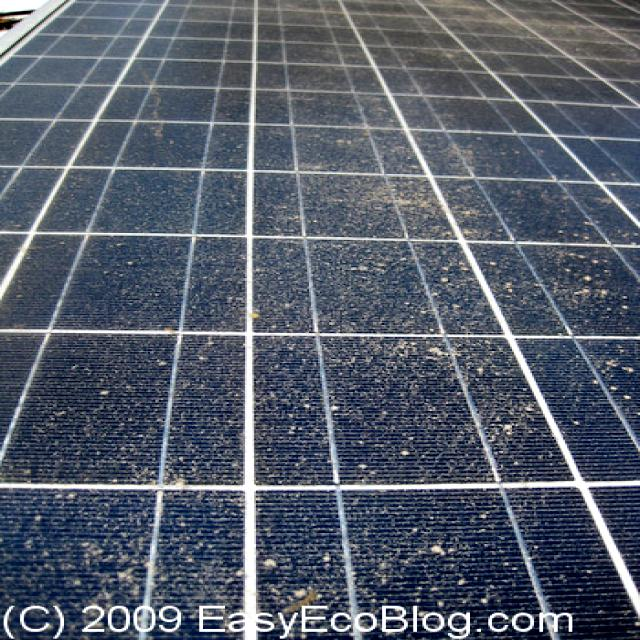dust: (246, 340, 462, 482), (76, 241, 342, 325), (480, 333, 640, 468), (41, 332, 171, 477), (179, 490, 343, 596), (372, 494, 527, 600), (8, 483, 154, 593), (418, 248, 638, 320), (514, 144, 640, 245), (285, 178, 493, 234), (266, 56, 448, 108), (284, 119, 463, 171), (449, 0, 604, 54), (106, 171, 254, 223)
